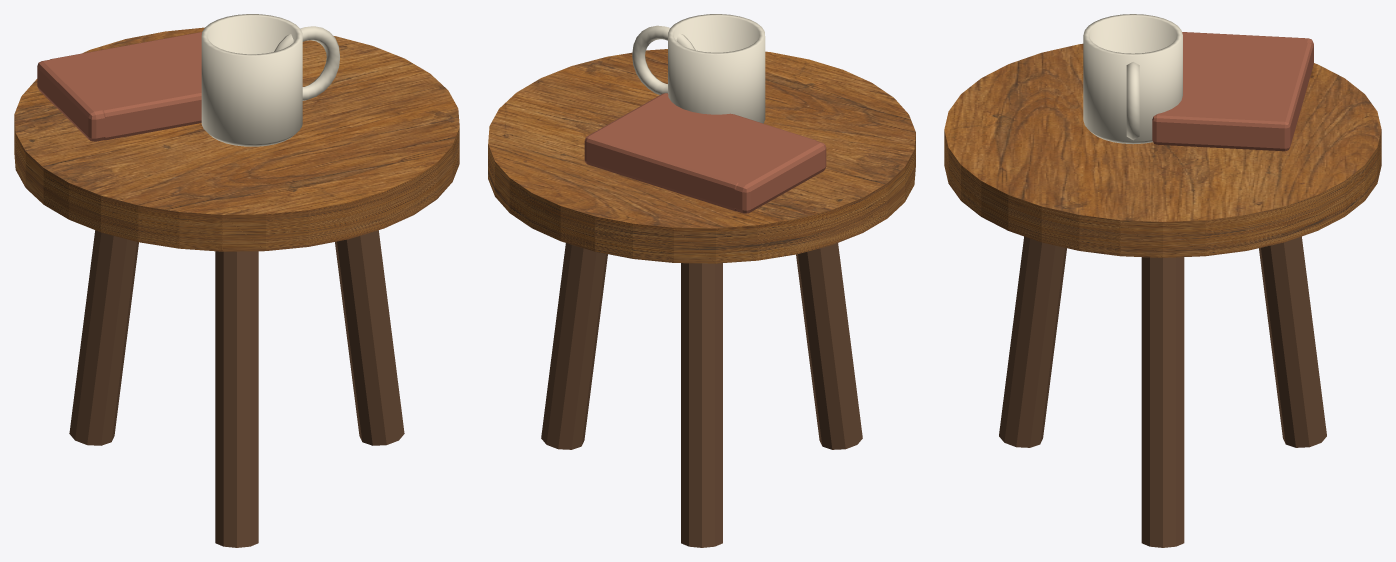
3 views of the same model, side by side, from view 1: azimuth 30°, elevation 25°; view 2: azimuth 150°, elevation 25°; view 3: azimuth 270°, elevation 25° (orthographic). The views are drawn at different scales.
Parts seen in each view (by area): view 1: workshop_bench, workshop_wood_dark, workshop_cream, workshop_red; view 2: workshop_bench, workshop_wood_dark, workshop_red, workshop_cream; view 3: workshop_bench, workshop_wood_dark, workshop_red, workshop_cream.
Boxes of the visible parts, box(x1,y1,x2,y2) form: workshop_bench: box(14, 27, 459, 251); workshop_wood_dark: box(69, 230, 404, 547); workshop_cream: box(201, 14, 339, 146); workshop_red: box(37, 32, 201, 141); workshop_bench: box(488, 49, 915, 263); workshop_wood_dark: box(541, 243, 862, 547); workshop_red: box(584, 93, 826, 213); workshop_cream: box(632, 14, 765, 123); workshop_bench: box(944, 43, 1381, 257); workshop_wood_dark: box(999, 236, 1326, 547); workshop_red: box(1152, 32, 1313, 151); workshop_cream: box(1083, 14, 1182, 144).
Size of the model in its own units: 0.88 by 0.9757 by 0.88.
Materials: 5 (1 with a texture image).
